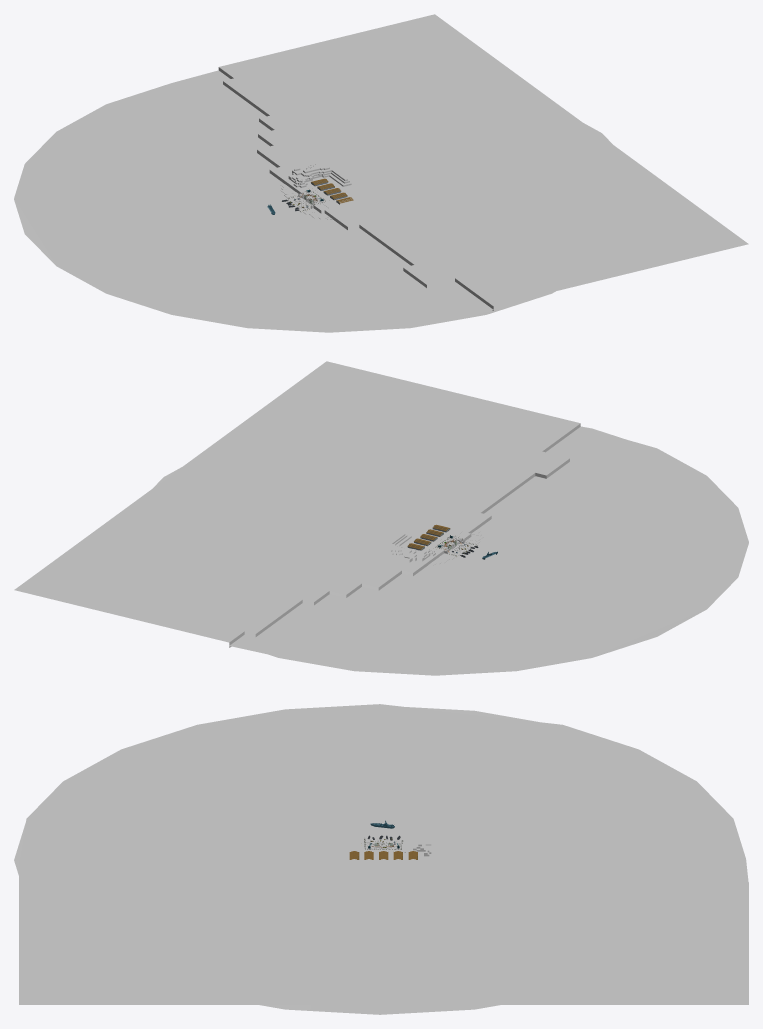
File: Day_D.fbx
The picture shows the model from 3 angles, top to bottom: view 1: azimuth 30°, elevation 25°; view 2: azimuth 150°, elevation 25°; view 3: azimuth 270°, elevation 25°; orthographic projection. The views are drawn at different scales.
Parts seen in each view (by area): view 1: Embiant, water2, niz pesok, Left_Terrain; view 2: Embiant, water2, niz pesok, Left_Terrain; view 3: Embiant, water2, niz pesok, Left_Terrain.
Boxes of the visible parts, x1,y1,x2,y2 form: Embiant: (218,14,748,310); water2: (14,70,493,331); niz pesok: (14,123,612,332); Left_Terrain: (281,162,351,220); Embiant: (14,361,580,647); water2: (229,426,748,674); niz pesok: (153,426,748,675); Left_Terrain: (377,530,483,565); Embiant: (19,844,748,1004); water2: (19,704,748,882); niz pesok: (14,707,537,1014); Left_Terrain: (335,840,453,868).
Bounding box in the file's own units: 2000 × 52 × 2008.
